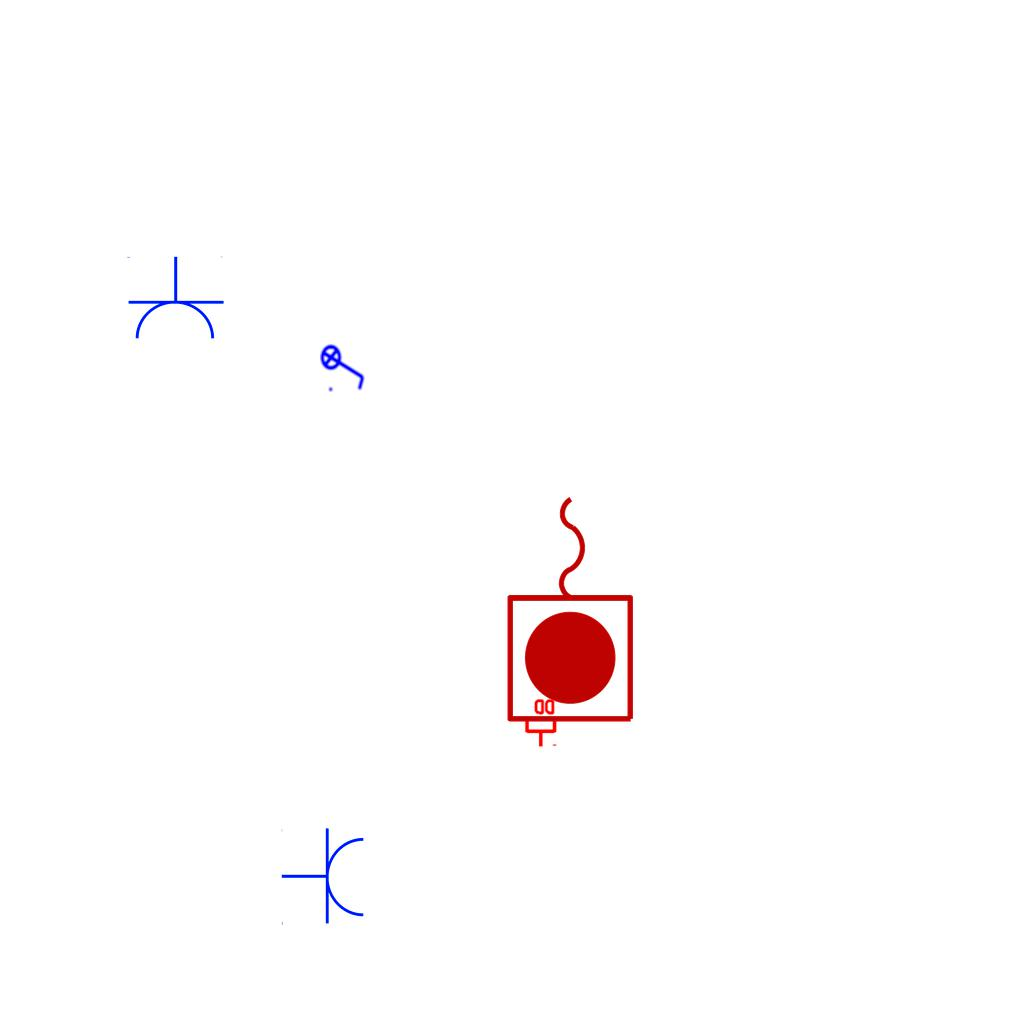Ausschalter_beleuchtet: (320, 338, 368, 394)
Datenanschluss_zweifach: (523, 697, 557, 748)
Schukosteckdose_einfach: (281, 827, 368, 927), (125, 256, 225, 343)
Zugtaster: (500, 486, 644, 730)
